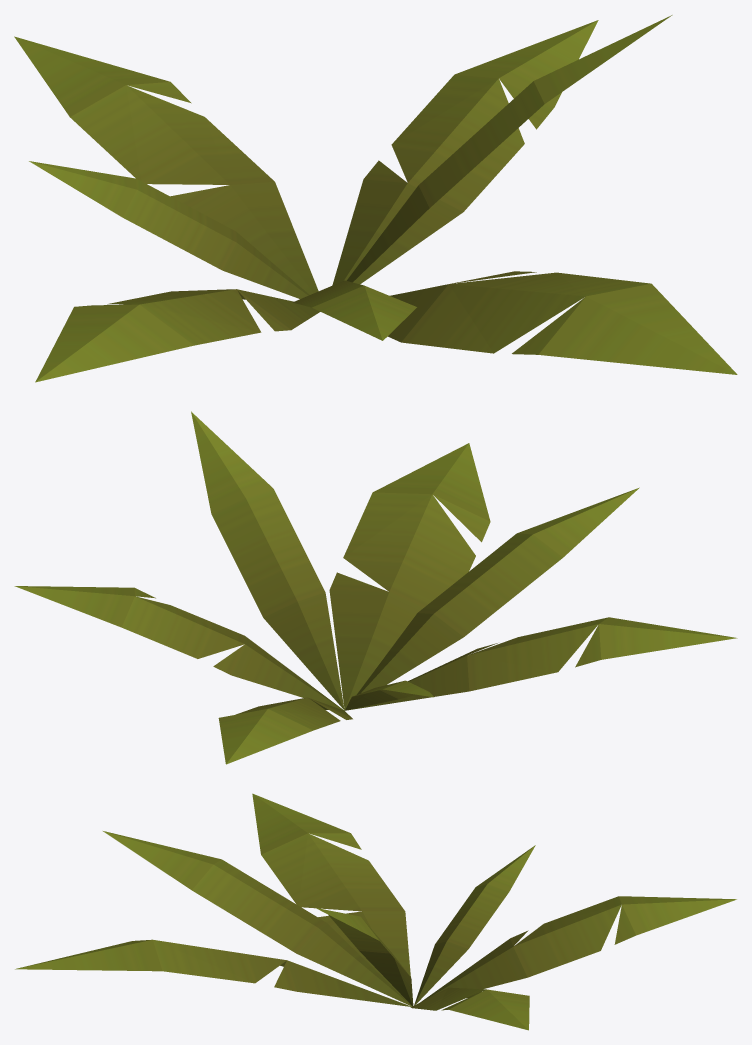
File: Plant_2.fbx
3 views of the same model, one above another, from view 1: azimuth 30°, elevation 25°; view 2: azimuth 150°, elevation 25°; view 3: azimuth 270°, elevation 25° (orthographic). The views are drawn at different scales.
Parts seen in each view (by area): view 1: polySurface10617; view 2: polySurface10617; view 3: polySurface10617.
Part boxes in pixels (left/top/right/bottom): polySurface10617: left=14, top=15, right=737, bottom=382; polySurface10617: left=14, top=411, right=737, bottom=764; polySurface10617: left=15, top=793, right=736, bottom=1030.
Bounding box in the file's own units: 142 × 49.6 × 169.
